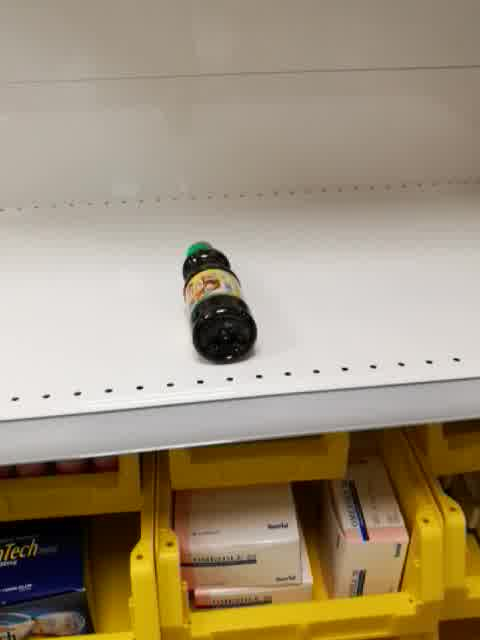cookingoil: (179, 239, 259, 366)
